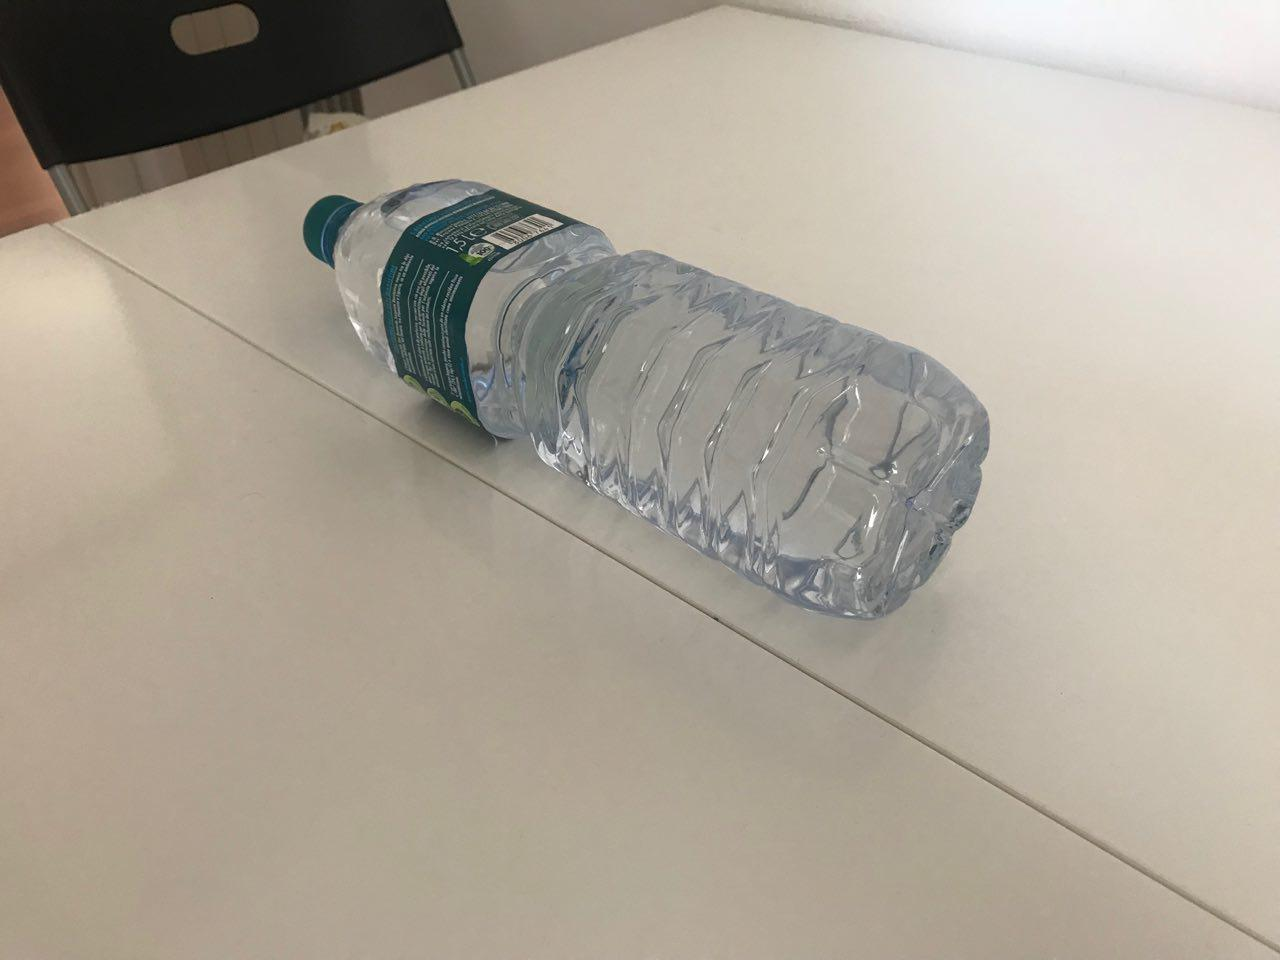san_bernardo: (302, 176, 992, 621)
